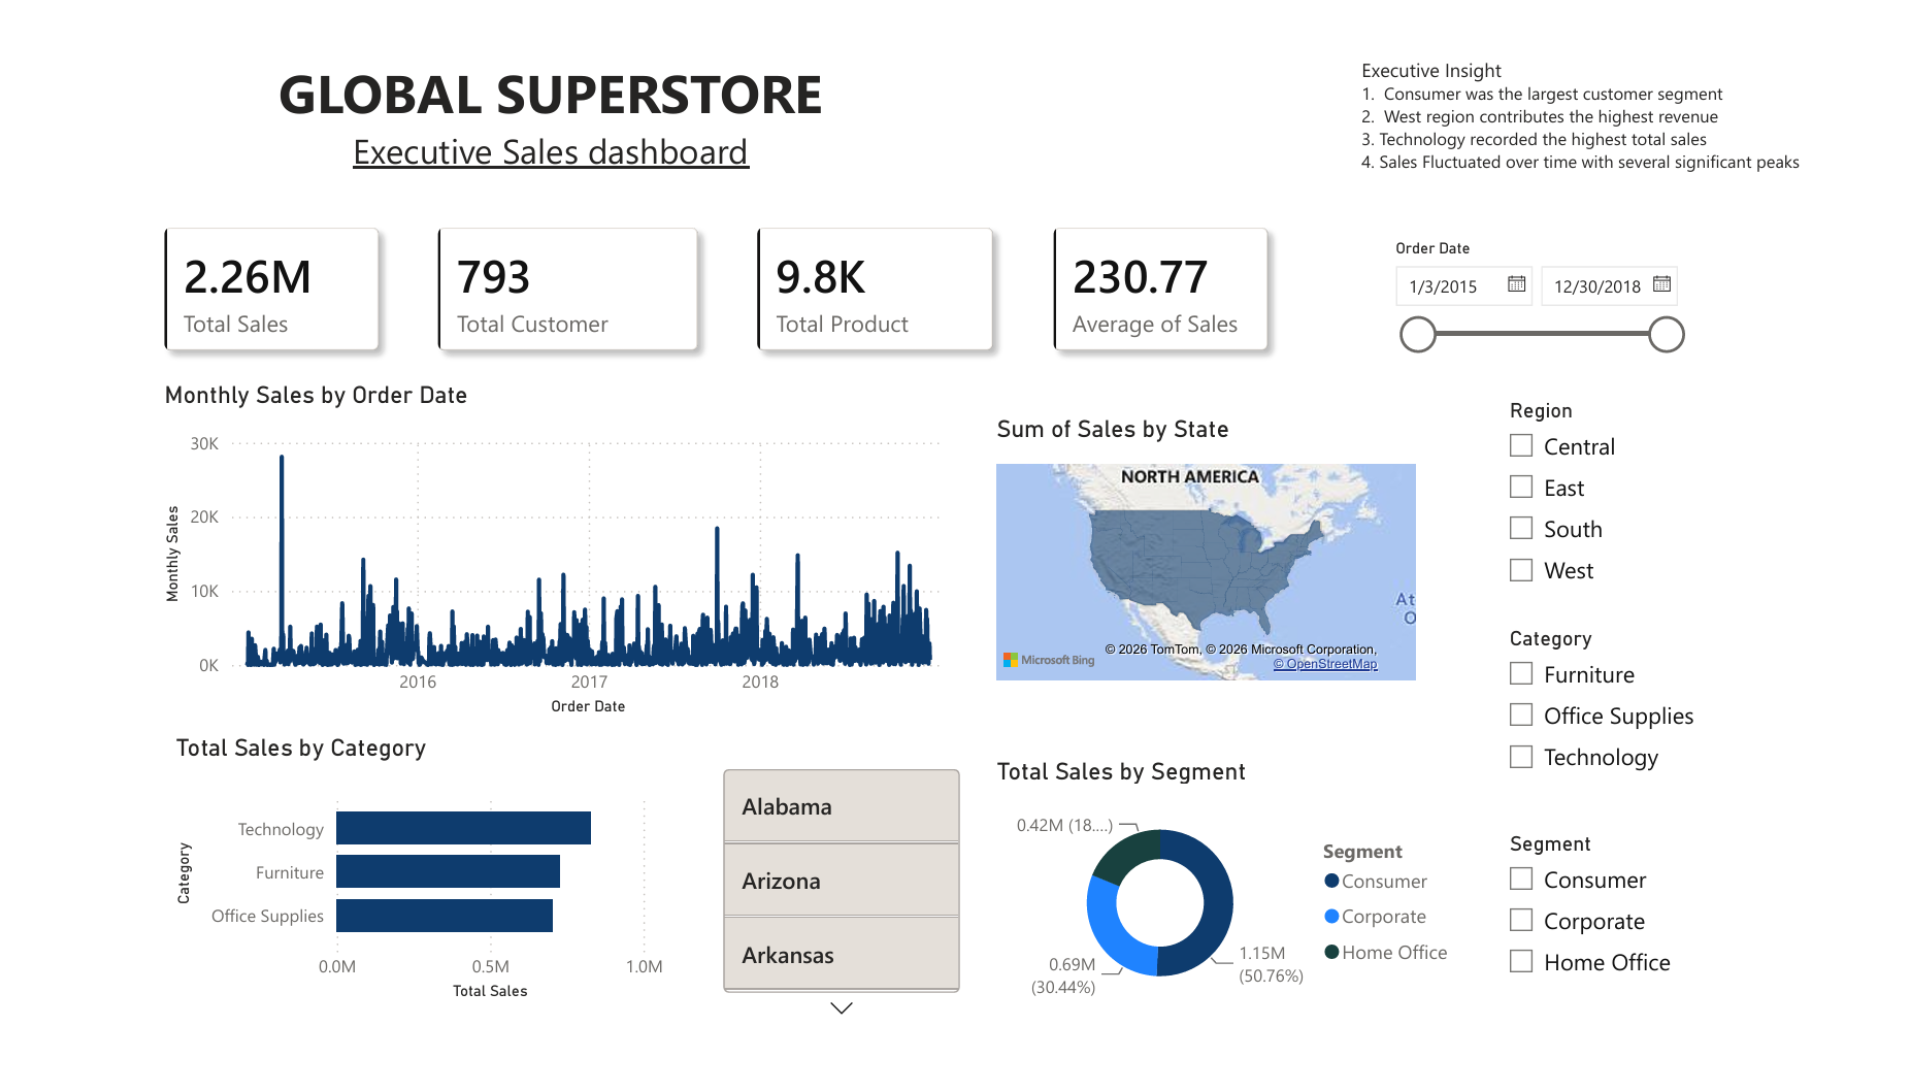

The dashboard page shown, as its layout file describes it:
{"tool":"powerbi","page":{"name":"Page 1","canvas":[1280,720],"ordinal":0},"visuals":[{"type":"cardVisual","fields":{"Data":["Sum(Dataset.Sales)"]},"box":[64,112,208,144],"z":0},{"type":"cardVisual","fields":{"Data":["Avg(Dataset.Sales)"]},"box":[688,112,208,144],"z":1000},{"type":"cardVisual","fields":{"Data":["Count(Dataset.Customer ID)"]},"box":[256,112,240,144],"z":2000},{"type":"cardVisual","fields":{"Data":["CountNonNull(Dataset.Product ID)"]},"box":[480,112,224,144],"z":3000},{"type":"cardVisual","fields":{"Rows":["Dataset.State"]},"box":[480,496,176,208],"z":4000},{"type":"lineChart","fields":{"Y":["Sum(Dataset.Sales)"],"Category":["Dataset.Order Date"]},"box":[88,248,560,240],"z":5000},{"type":"filledMap","fields":{"Y":["Sum(Dataset.Sales)"],"Category":["Dataset.State"]},"box":[672,272,304,192],"z":6000},{"type":"barChart","fields":{"Category":["Dataset.Category"],"Y":["Sum(Dataset.Sales)"]},"box":[96,496,352,192],"z":7000},{"type":"donutChart","fields":{"Category":["Dataset.Segment"],"Y":["Sum(Dataset.Sales)"]},"box":[672,512,336,176],"z":8000},{"type":"slicer","fields":{"Values":["Dataset.Order Date"]},"box":[944,144,224,96],"z":9000},{"type":"slicer","fields":{"Values":["Dataset.Region"]},"box":[1024,256,160,144],"z":10000},{"type":"slicer","fields":{"Values":["Dataset.Category"]},"box":[1024,416,160,128],"z":11000},{"type":"slicer","fields":{"Values":["Dataset.Segment"]},"box":[1024,560,160,128],"z":12000},{"type":"textbox","box":[72,16,584,104],"z":13000},{"type":"textbox","box":[928,16,320,96],"z":14000}]}

Visuals, with their boxes in screenshot pixels (x1, y1, x2, y2), scaled from the page's 1280x720 canvas onto the 1920x1080 screenshot:
cardVisual - Sum(Dataset.Sales): pyautogui.locateOnScreen(96, 168, 408, 384)
cardVisual - Avg(Dataset.Sales): pyautogui.locateOnScreen(1032, 168, 1344, 384)
cardVisual - Count(Dataset.Customer ID): pyautogui.locateOnScreen(384, 168, 744, 384)
cardVisual - CountNonNull(Dataset.Product ID): pyautogui.locateOnScreen(720, 168, 1056, 384)
cardVisual - Dataset.State: pyautogui.locateOnScreen(720, 744, 984, 1056)
lineChart - Sum(Dataset.Sales) x Dataset.Order Date: pyautogui.locateOnScreen(132, 372, 972, 732)
filledMap - Sum(Dataset.Sales) x Dataset.State: pyautogui.locateOnScreen(1008, 408, 1464, 696)
barChart - Dataset.Category x Sum(Dataset.Sales): pyautogui.locateOnScreen(144, 744, 672, 1032)
donutChart - Dataset.Segment x Sum(Dataset.Sales): pyautogui.locateOnScreen(1008, 768, 1512, 1032)
slicer - Dataset.Order Date: pyautogui.locateOnScreen(1416, 216, 1752, 360)
slicer - Dataset.Region: pyautogui.locateOnScreen(1536, 384, 1776, 600)
slicer - Dataset.Category: pyautogui.locateOnScreen(1536, 624, 1776, 816)
slicer - Dataset.Segment: pyautogui.locateOnScreen(1536, 840, 1776, 1032)
textbox: pyautogui.locateOnScreen(108, 24, 984, 180)
textbox: pyautogui.locateOnScreen(1392, 24, 1872, 168)
